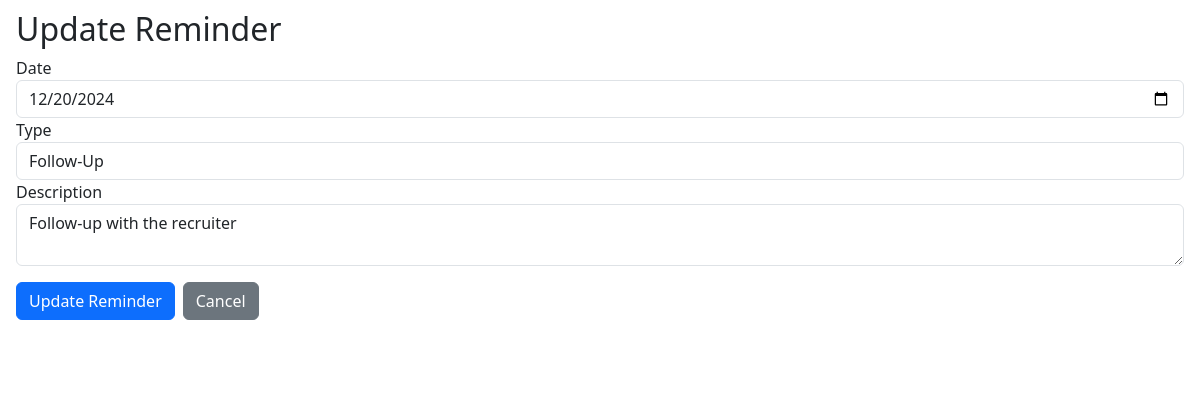
Test case: ReminderUpdateForm › submits updated reminder details
Expected: the date field showing "2024-12-20" is shown, [16, 80, 1184, 118]
# Update form inputs
Select "Interview" in the dropdown labelled "Type" at (600, 161), box [16, 142, 1184, 180]
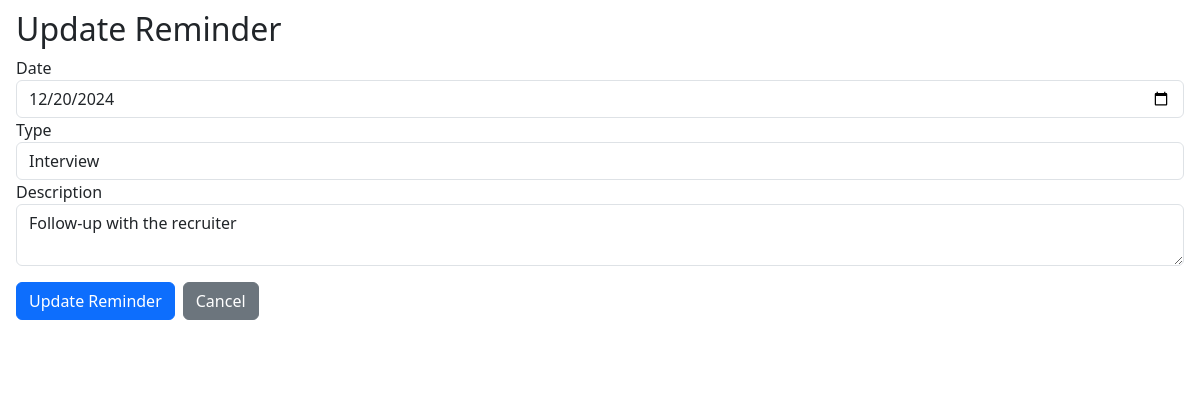
Replace the text in the text box labelled "Description" with "Prepare for the interview" at (600, 235), box [16, 204, 1184, 266]
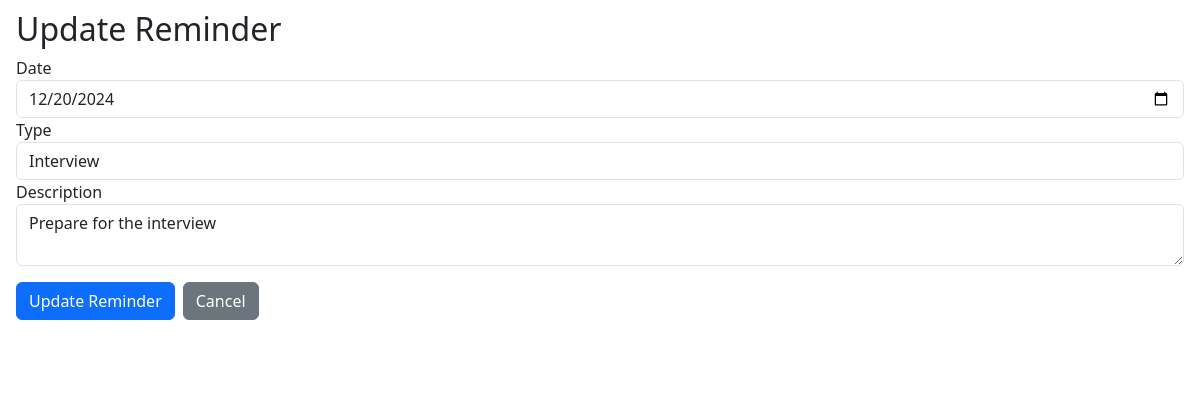
# Submit the form
Click the button "Update Reminder" at (95, 301), box [16, 282, 175, 320]
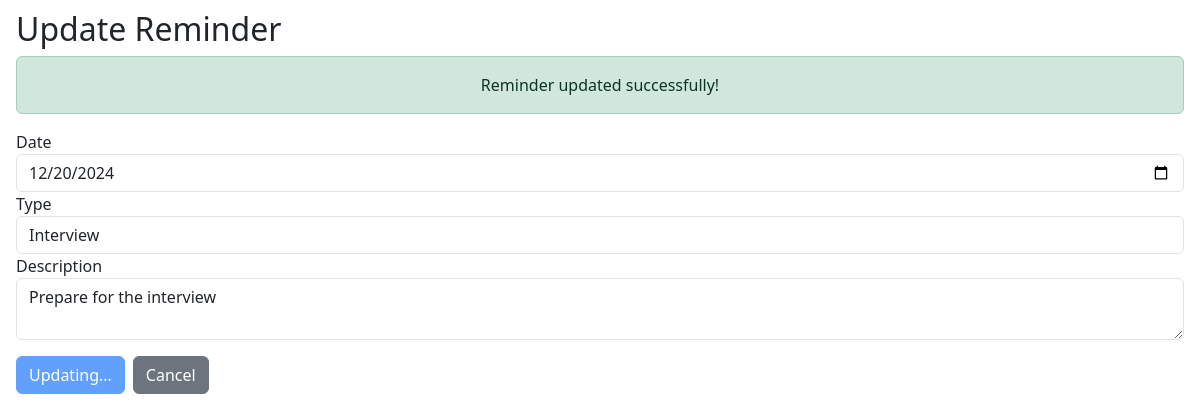
Expected: the text "Reminder updated successfully!" is shown, [16, 56, 1184, 114]
